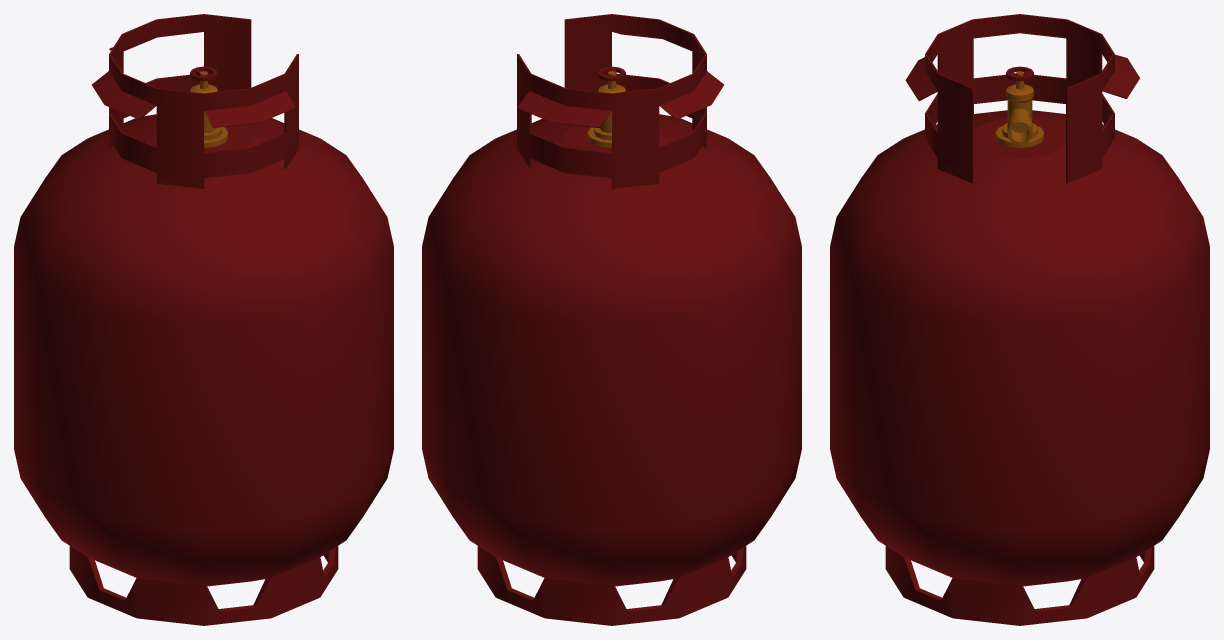
The model's file is Gase.FBX.
The picture shows the model from 3 angles, left to right: view 1: azimuth 30°, elevation 25°; view 2: azimuth 150°, elevation 25°; view 3: azimuth 270°, elevation 25°; orthographic projection.
Visible parts, largest first — view 1: Capsule001; view 2: Capsule001; view 3: Capsule001.
Boxes of the visible parts, x1,y1,x2,y2 form: Capsule001: [14, 14, 393, 625]; Capsule001: [422, 14, 801, 625]; Capsule001: [830, 14, 1209, 625].
Bounding box in the file's own units: 27.87 × 41.7 × 27.87.
